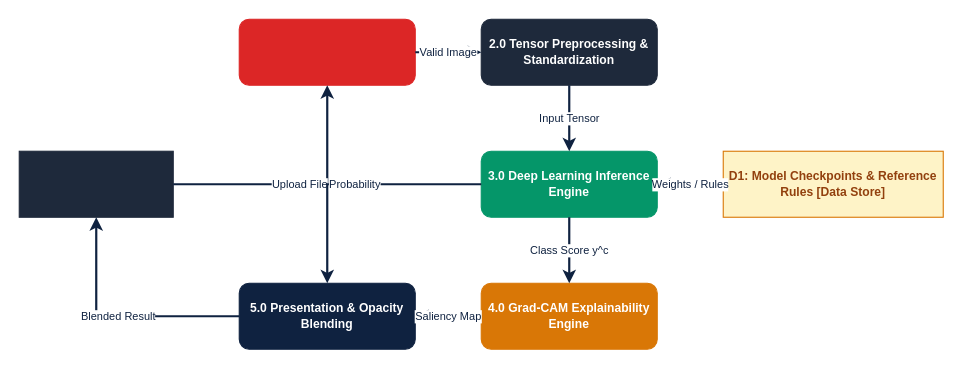
Image size: 963x369. Some labels were removed from this diagram. Each missing label, with the centre of its shape:
1.0 Defensive Input Quality Gate: the point at 326,51
Clinician [External Entity]: the point at 95,183
